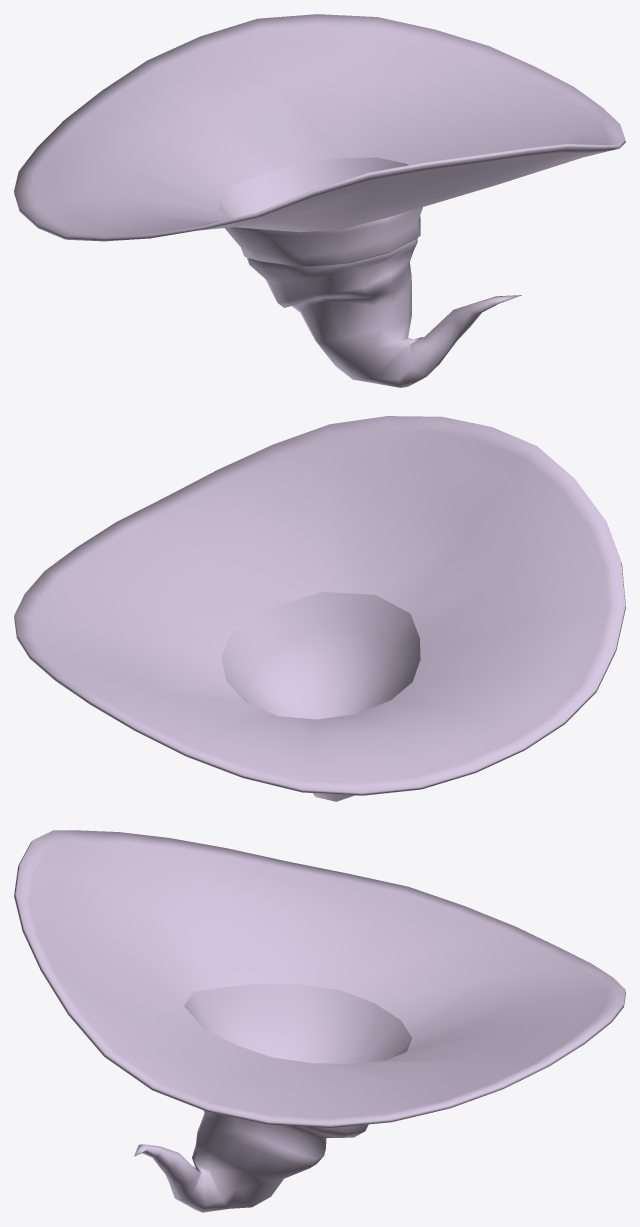
The model's file is atama_hat_magic.dae.
3 renders of one model, top to bottom at view 1: azimuth 30°, elevation 25°; view 2: azimuth 150°, elevation 25°; view 3: azimuth 270°, elevation 25°, orthographic. The views are drawn at different scales.
Visible parts, largest first — view 1: o_magic_hut_0; view 2: o_magic_hut_0; view 3: o_magic_hut_0.
Boxes of the visible parts, bbox=[...] form: o_magic_hut_0: bbox=[14, 14, 625, 387]; o_magic_hut_0: bbox=[14, 416, 625, 801]; o_magic_hut_0: bbox=[14, 830, 625, 1212].
Bounding box in the file's own units: 0.5031 × 0.4857 × 0.2759.
